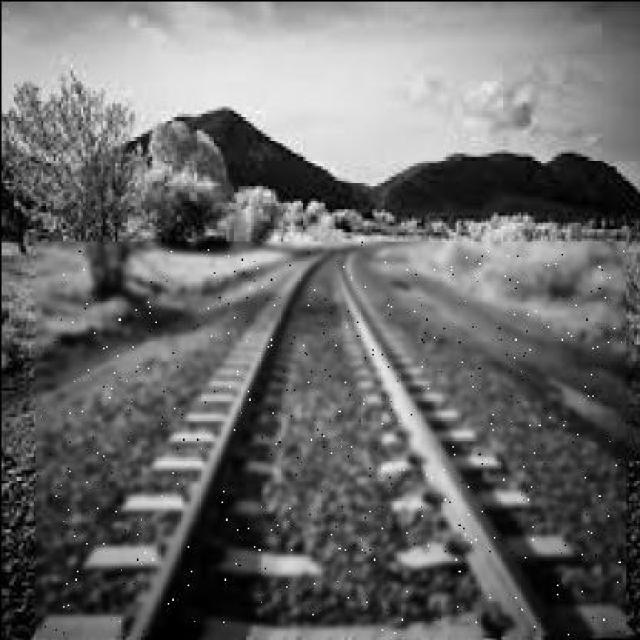rail: (35, 241, 624, 634)
